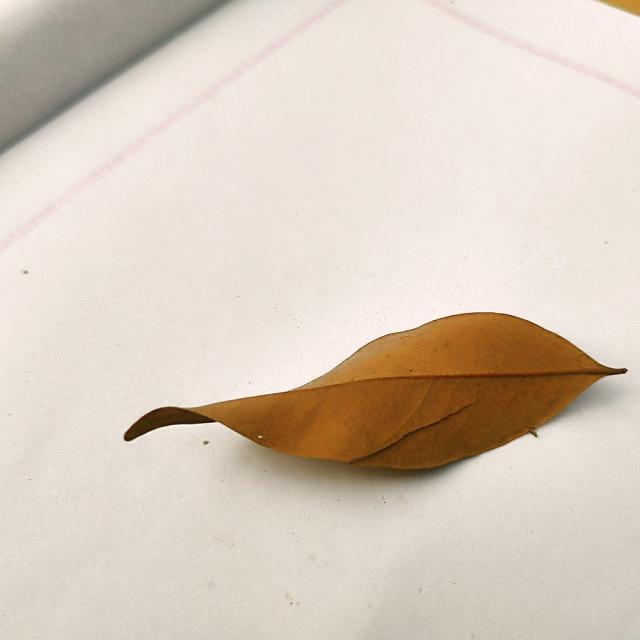Dry_Leaf-Lychee: (124, 312, 628, 474)
